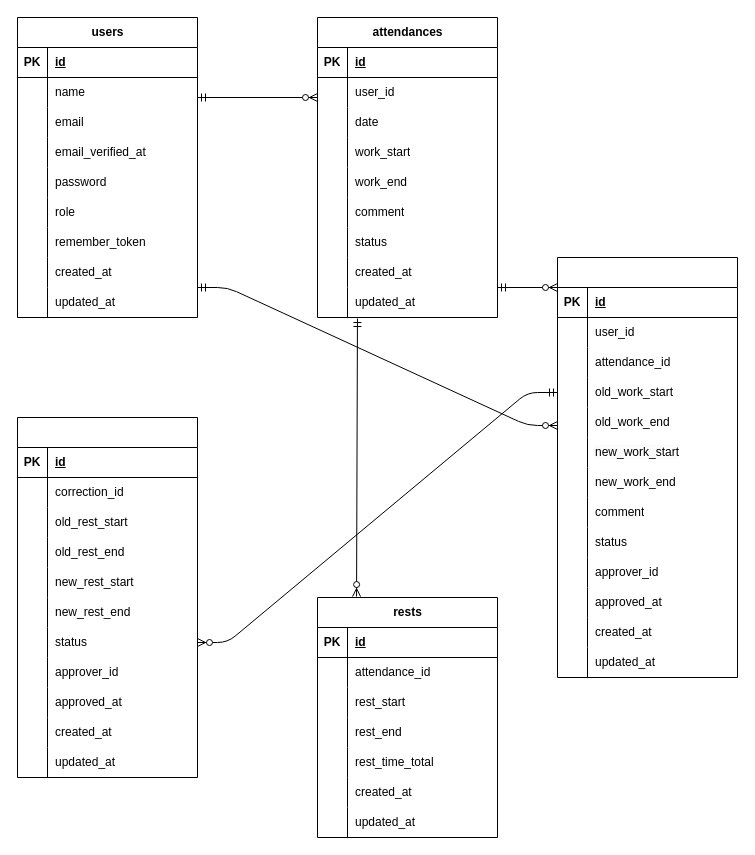
Image size: 755x855. Some labels were removed from this diagram. Each missing label, with the box of its shape:
correction_rests: (16, 416, 198, 778)
corrections: (556, 256, 738, 678)
